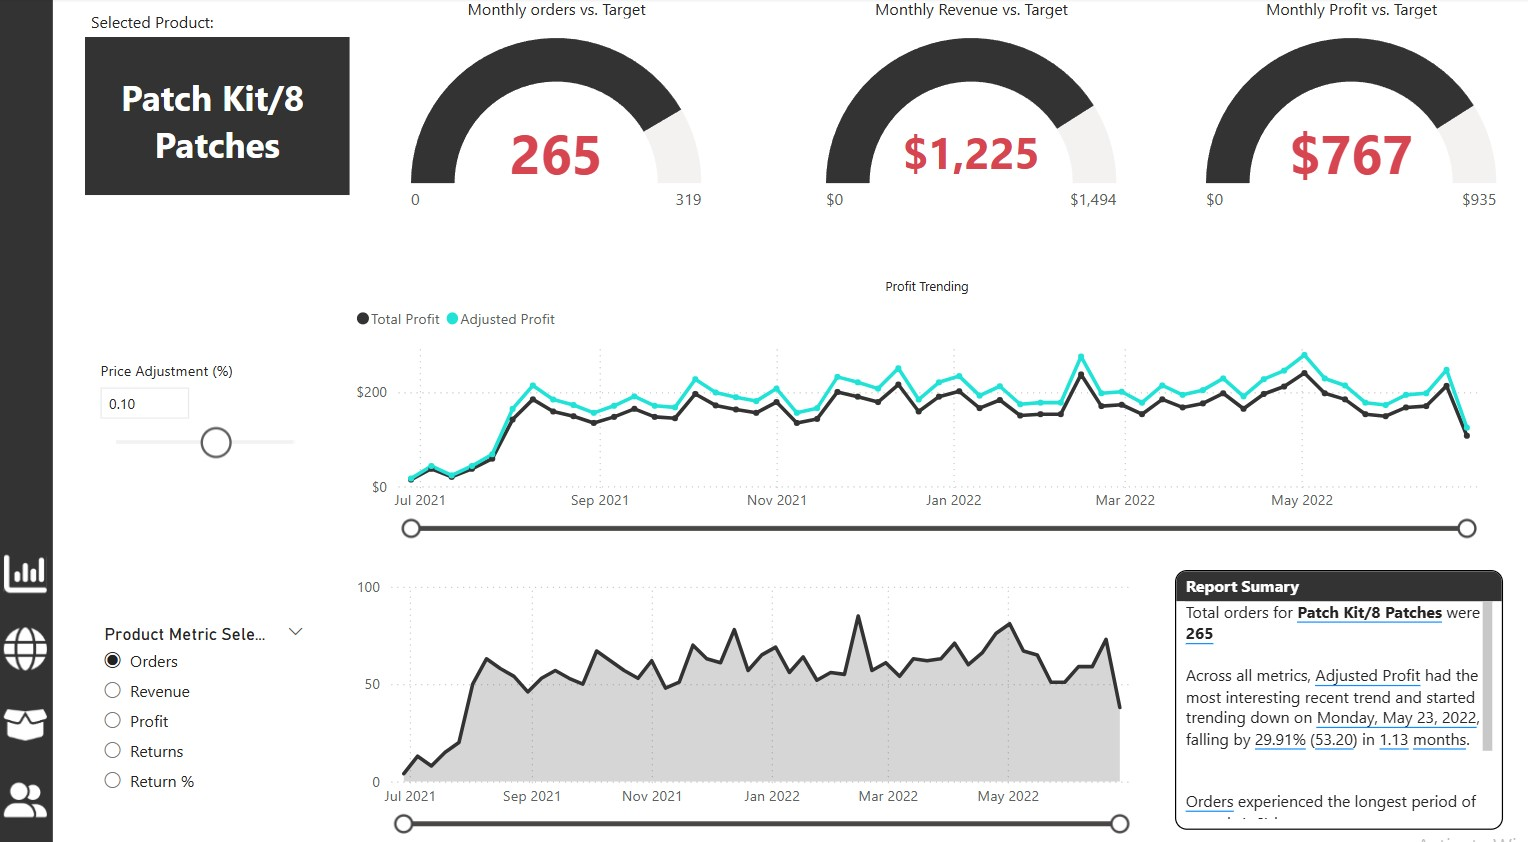

What the dashboard file says about the page in this screenshot:
{"tool":"powerbi","page":{"name":"Product Detail","canvas":[1280,720],"ordinal":2},"visuals":[{"type":"shape","box":[0,0,45,720.3],"z":0},{"type":"gauge","title":"Monthly orders vs. Target","fields":{"Y":["Measure Table.Total Orders"],"MaxValue":["Measure Table.Order Target"]},"box":[339.1,0,253.1,198.4],"z":1000},{"type":"gauge","title":"Monthly Revenue vs. Target","fields":{"Y":["Measure Table.Total Revenue"],"MaxValue":["Measure Table.Revenue Target"]},"box":[685.9,0,253.1,198.4],"z":2000},{"type":"gauge","title":"Monthly Profit vs. Target","fields":{"Y":["Measure Table.Total Profit"],"MaxValue":["Measure Table.Profit Target"]},"box":[1003.1,0,253.1,198.4],"z":3000},{"type":"lineChart","title":"Profit Trending","fields":{"Category":["Calendar Lookup.Date Hierarchy.Year","Calendar Lookup.Date Hierarchy.Start of Month","Calendar Lookup.Date Hierarchy.Start of Week","Calendar Lookup.Date Hierarchy.Date"],"Y":["Measure Table.Total Profit","Measure Table.Adjusted Profit"]},"box":[293.1,233.3,963.9,220.8],"z":4000},{"type":"areaChart","title":"Return Trending","fields":{"Y":["Measure Table.Total Orders"],"Category":["Calendar Lookup.Date Hierarchy.Year","Calendar Lookup.Date Hierarchy.Start of Month","Calendar Lookup.Date Hierarchy.Start of Week","Calendar Lookup.Date Hierarchy.Date"]},"box":[293.3,477.7,674.3,222.7],"z":5000},{"type":"card","fields":{"Values":["Min(Product Lookup.ProductName)"]},"box":[71.8,32.9,221.2,131.8],"z":6000},{"type":"textbox","box":[71.8,5.9,147.1,27.1],"z":7000},{"type":"group","id":"g1","title":"Navigation Buttons","box":[0,451.4,44.4,248.6],"z":8000},{"type":"actionButton","box":[0,451.4,44.4,59.7],"z":8000,"group":"g1"},{"type":"slicer","fields":{"Values":["Price Adjustment (%).Price Adjustment (%)"]},"box":[72.2,297.2,197.2,123.6],"z":9000},{"type":"actionButton","box":[0,640.3,44.4,59.7],"z":9000,"group":"g1"},{"type":"slicer","fields":{"Values":["Product Metric Selection.Product Metric Selection"]},"box":[75,518.1,191.7,176.4],"z":10000},{"type":"actionButton","box":[0,577.3,44.4,59.7],"z":10000,"group":"g1"},{"type":"textbox","title":"Report  Sumary","box":[982.7,477.7,274.1,216.7],"z":11000},{"type":"actionButton","box":[0,514.4,44.4,59.7],"z":11000,"group":"g1"}]}

Visuals, with their boxes on the page's 1280x720 design canvas (x1, y1, x2, y2). These are canvas units, not pixel positions in the 1528x842 screenshot, which may show the page scaled, cropped or inside an application window:
shape: (x1=0, y1=0, x2=45, y2=720)
"Monthly orders vs. Target" gauge: (x1=339, y1=0, x2=592, y2=198)
"Monthly Revenue vs. Target" gauge: (x1=686, y1=0, x2=939, y2=198)
"Monthly Profit vs. Target" gauge: (x1=1003, y1=0, x2=1256, y2=198)
"Profit Trending" lineChart: (x1=293, y1=233, x2=1257, y2=454)
"Return Trending" areaChart: (x1=293, y1=478, x2=968, y2=700)
card - Min(Product Lookup.ProductName): (x1=72, y1=33, x2=293, y2=165)
textbox: (x1=72, y1=6, x2=219, y2=33)
"Navigation Buttons" group: (x1=0, y1=451, x2=44, y2=700)
actionButton: (x1=0, y1=451, x2=44, y2=511)
slicer - Price Adjustment (%).Price Adjustment (%): (x1=72, y1=297, x2=269, y2=421)
actionButton: (x1=0, y1=640, x2=44, y2=700)
slicer - Product Metric Selection.Product Metric Selection: (x1=75, y1=518, x2=267, y2=694)
actionButton: (x1=0, y1=577, x2=44, y2=637)
"Report  Sumary" textbox: (x1=983, y1=478, x2=1257, y2=694)
actionButton: (x1=0, y1=514, x2=44, y2=574)
